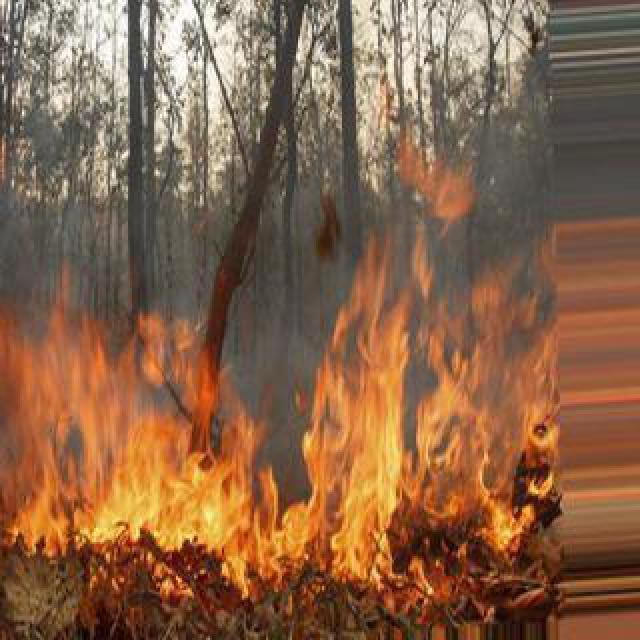Fire: (2, 180, 558, 580)
